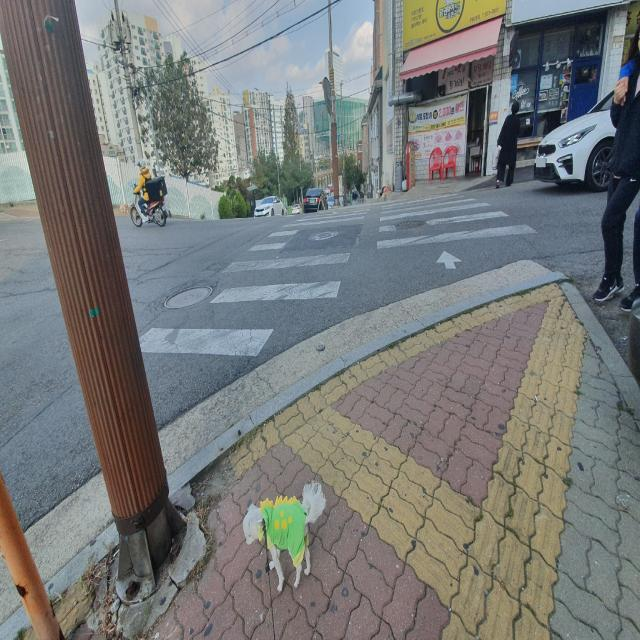횡단보도: (137, 188, 541, 361)
